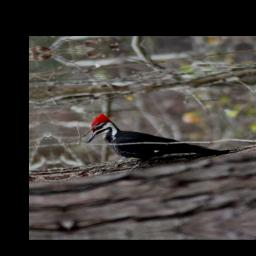Woodpecker: (80, 102, 239, 175)
